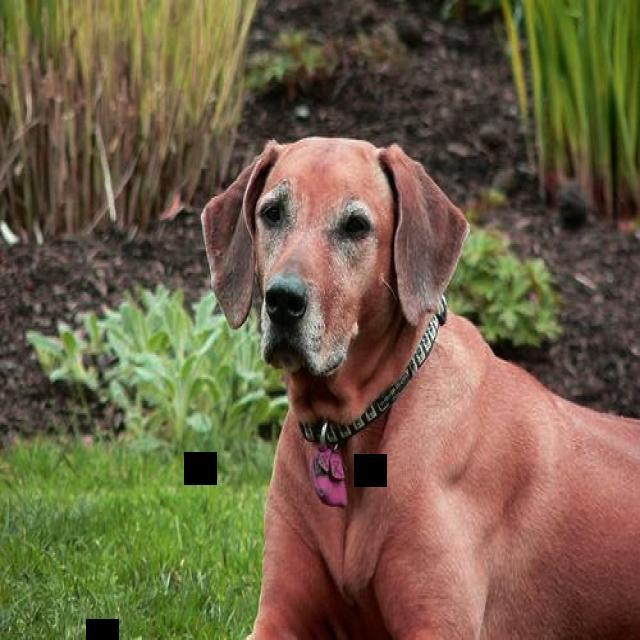adult_dog: (201, 136, 640, 634)
